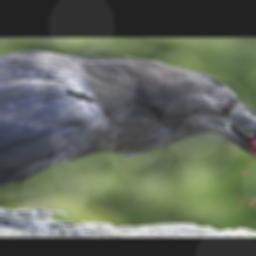Crow: (0, 49, 256, 236)
